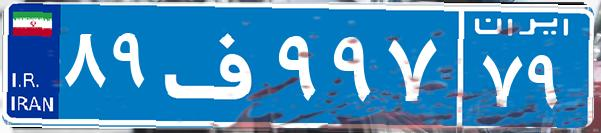7: (385, 28, 445, 110), (475, 38, 525, 113)
8: (57, 26, 110, 107)
9: (273, 28, 330, 110), (330, 28, 385, 110), (110, 28, 158, 105), (525, 38, 570, 115)
ف: (158, 15, 273, 115)
